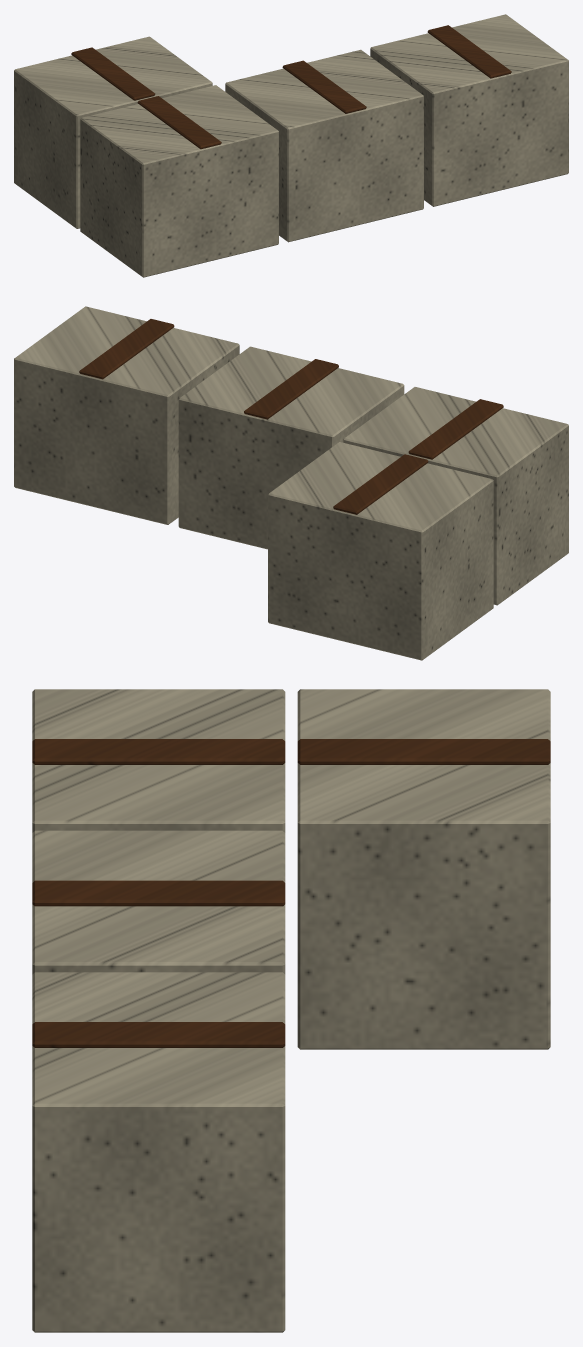
Rendered from PROP-E9F7C84EEC24_lod1.glb.
3 views of the same model, one above another, from view 1: azimuth 30°, elevation 25°; view 2: azimuth 150°, elevation 25°; view 3: azimuth 270°, elevation 25° (orthographic). The views are drawn at different scales.
Parts seen in each view (by area): view 1: cardboard_box.001, box_tape.001; view 2: cardboard_box.001, box_tape.001; view 3: cardboard_box.001, box_tape.001.
Boxes of the visible parts, x1,y1,x2,y2 form: cardboard_box.001: (14, 14, 568, 277); box_tape.001: (71, 25, 511, 149); cardboard_box.001: (14, 306, 568, 660); box_tape.001: (79, 319, 503, 514); cardboard_box.001: (32, 689, 550, 1332); box_tape.001: (32, 739, 550, 1047).
Size of the model in its own units: 1.56 by 0.411 by 0.82.
2 materials, 2 textured.
